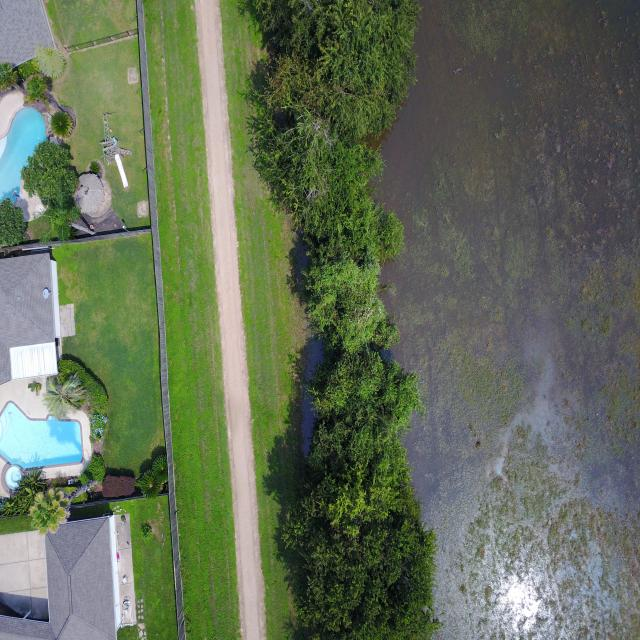fire: (376, 1, 640, 639)
